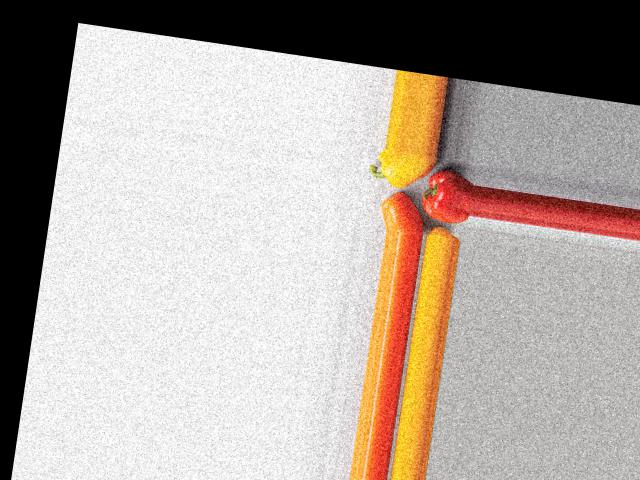bell_pepper: (418, 165, 475, 226)
